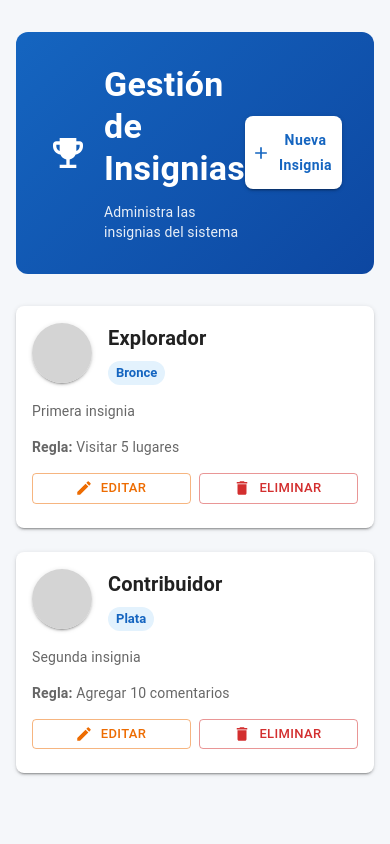
Insignias Component › Editar insignia › carga los datos al editar
Expected: the heading "Explorador" is shown, [108, 326, 206, 350]
Click the button "Editar" below "Visitar 5 lugares". click: (112,488)
box: [32, 473, 191, 504]
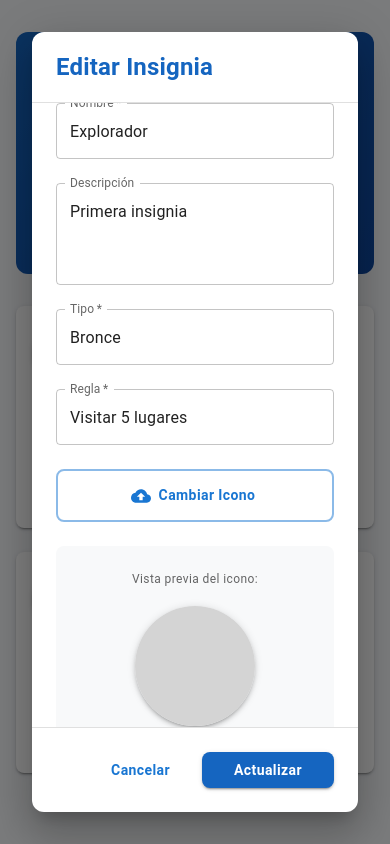
Now the dialog is shown
Now the heading "Editar Insignia" is shown, box [32, 32, 358, 103]
Now the field showing "Explorador" is shown, box [56, 103, 334, 159]
